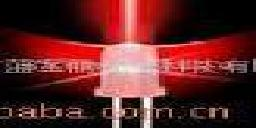LED: (90, 37, 174, 104)
